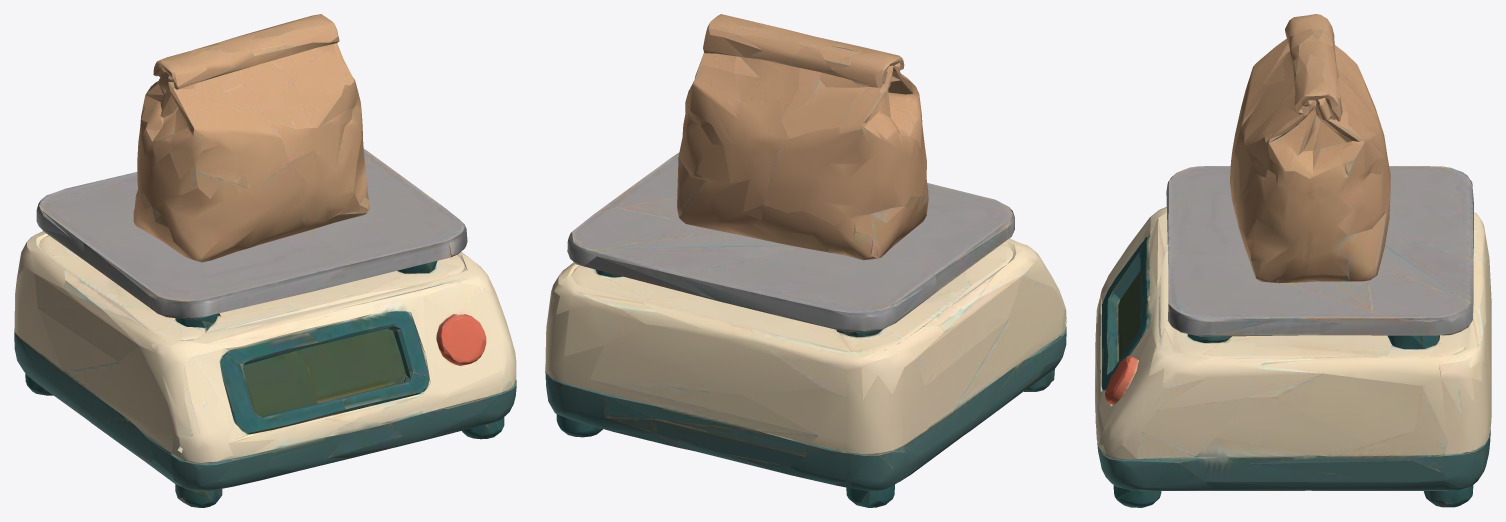
File: scale.glb
The picture shows the model from 3 angles, left to right: view 1: azimuth 30°, elevation 25°; view 2: azimuth 150°, elevation 25°; view 3: azimuth 270°, elevation 25°; orthographic projection. The views are drawn at different scales.
Parts seen in each view (by area): view 1: Mesh_0; view 2: Mesh_0; view 3: Mesh_0.
Part boxes in pixels (x1,y1,x2,y2): Mesh_0: [14, 14, 516, 507]; Mesh_0: [545, 14, 1066, 507]; Mesh_0: [1095, 14, 1491, 507].
Size of the model in its own units: 0.1172 by 0.12 by 0.1146.
Materials: 1 (1 with a texture image).
